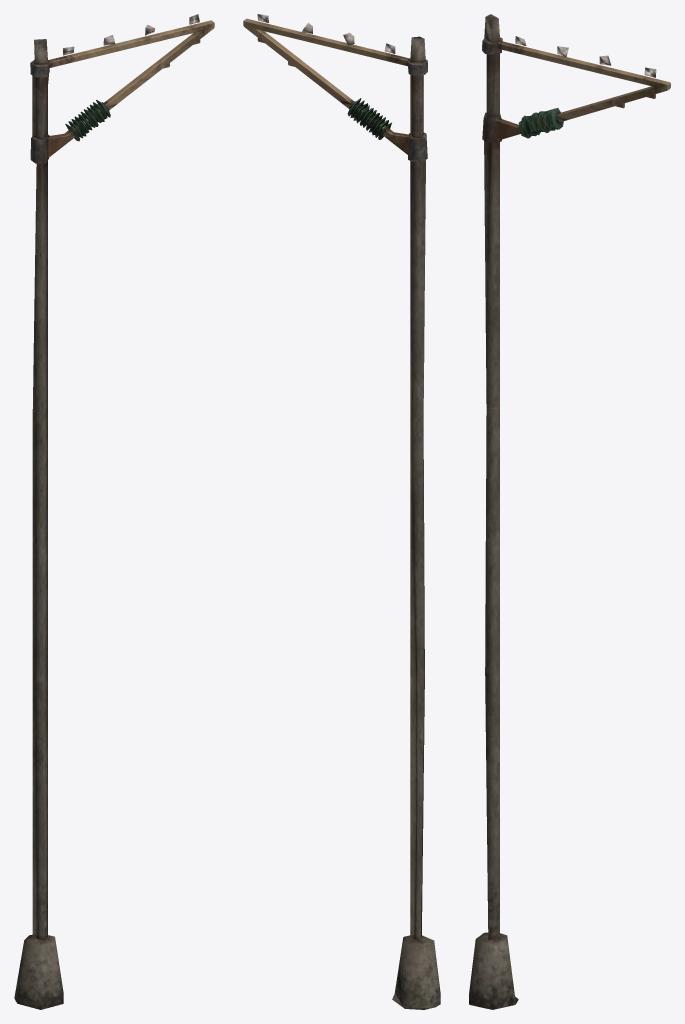
Rendered from power-pole.lod0.glb.
3 views of the same model, side by side, from view 1: azimuth 30°, elevation 25°; view 2: azimuth 150°, elevation 25°; view 3: azimuth 330°, elevation 25° (orthographic). The views are drawn at different scales.
Parts seen in each view (by area): view 1: Cylinder_Material_0; view 2: Cylinder_Material_0; view 3: Cylinder_Material_0.
Part boxes in pixels (x1,y1,x2,y2): Cylinder_Material_0: [14, 14, 214, 1009]; Cylinder_Material_0: [243, 14, 440, 1009]; Cylinder_Material_0: [469, 14, 670, 1009].
Bounding box in the file's own units: 1.92 × 9 × 0.4197.
1 material, 1 textured.
